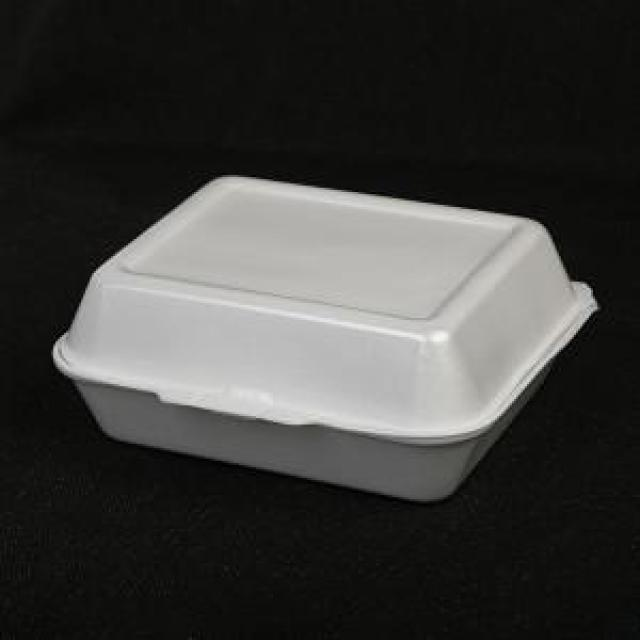styrofoam: (49, 171, 600, 504)
